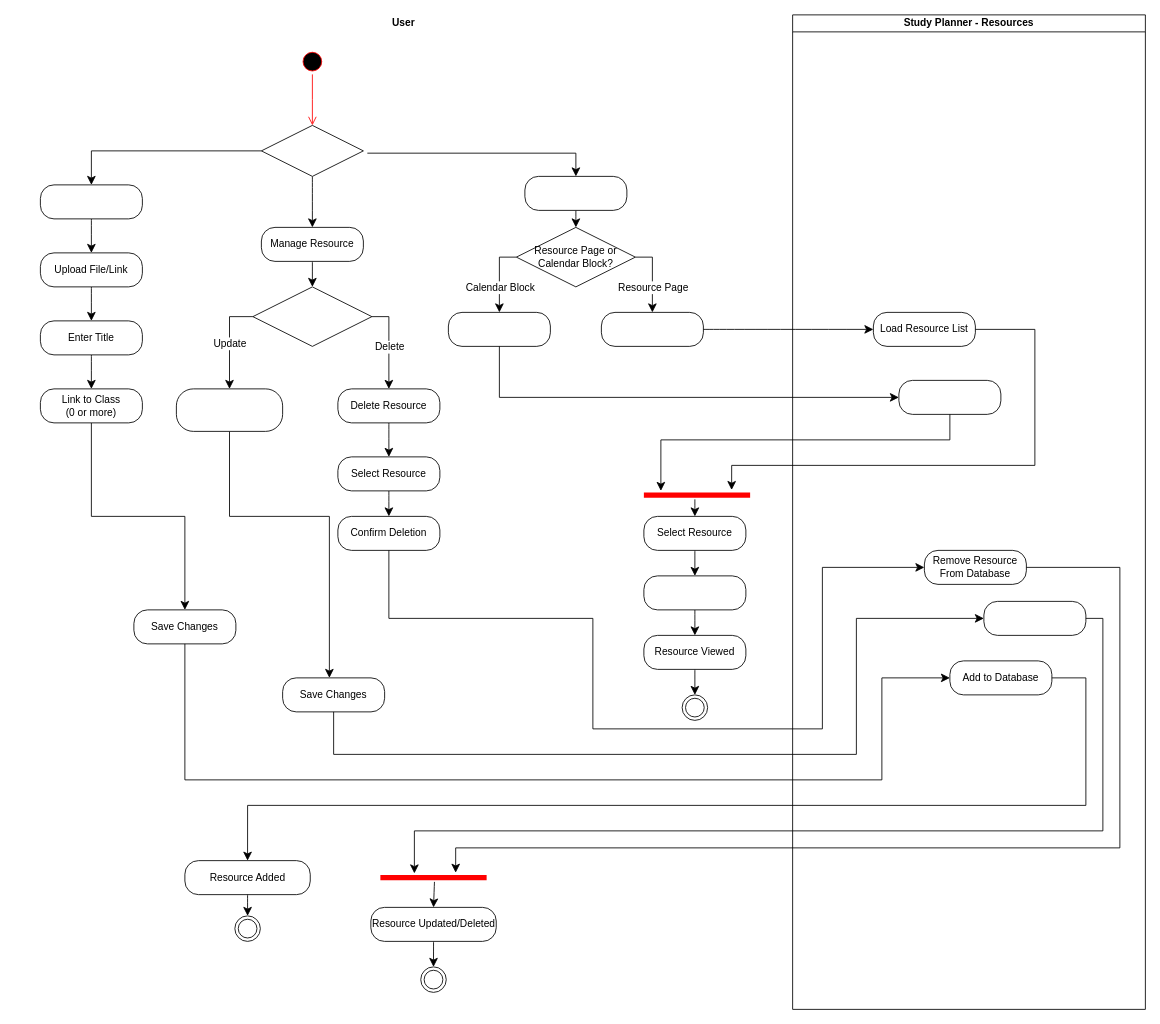
Image size: 1160x1024. Some labels were removed from this diagram. The shapes that lost their labels are listed below. From the top down, each one's centre as x and y in pixels, then its label:
At [312,150]: "Select Option".
At [91,201]: "Add Resource".
At [575,193]: "View Resource".
At [312,316]: "Update or Delete?".
At [499,329]: "Open Calendar Block".
At [652,329]: "Open Resource Page".
At [229,409]: "Update Resource (edit title, file, link, or class associations)".
At [949,397]: "Load Day Block".
At [694,592]: "Open Resource".
At [1034,618]: "Update Database".
